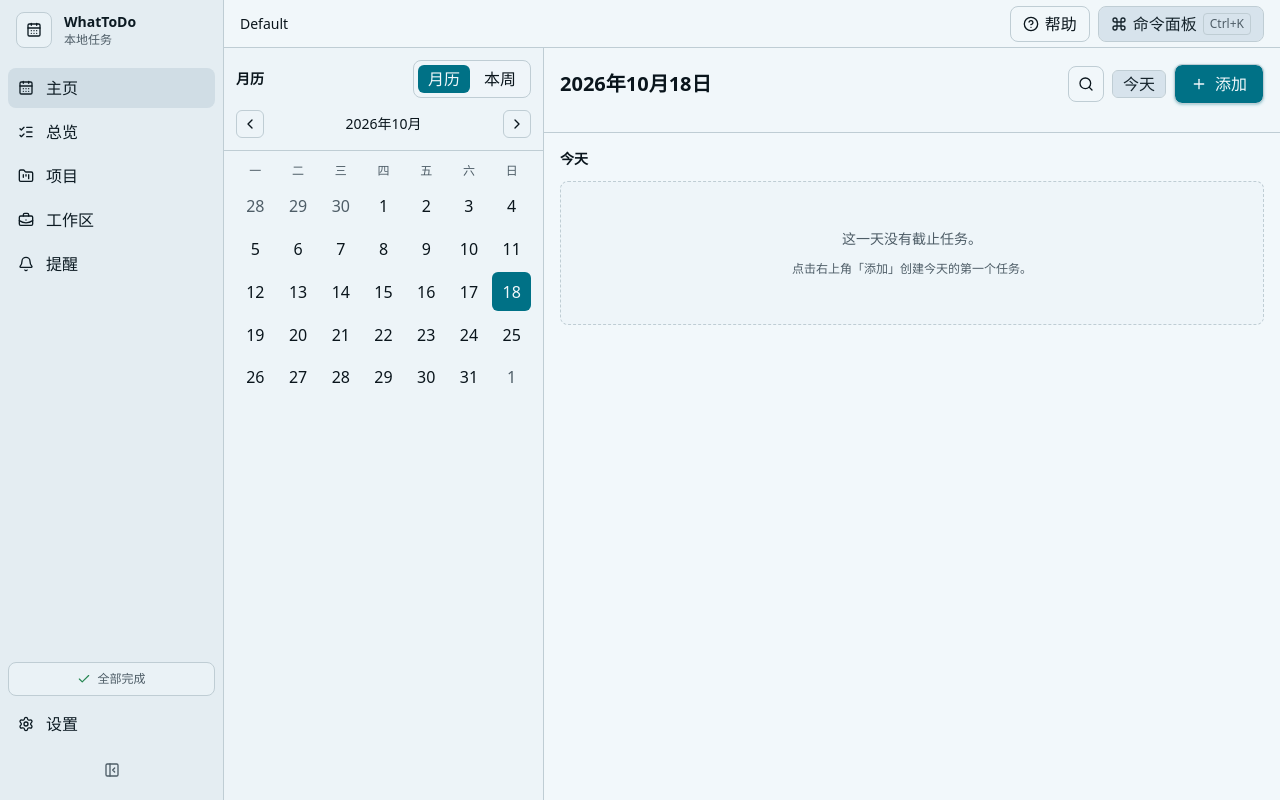
Test: App › renders the main shell and switches sidebar views
Expected: the text "WhatToDo" is shown, [64,12,136,32]
Expected: the button "今天" is shown, [1112,70,1166,98]
Click the button "项目" at x=112, y=176, box [8,156,215,196]
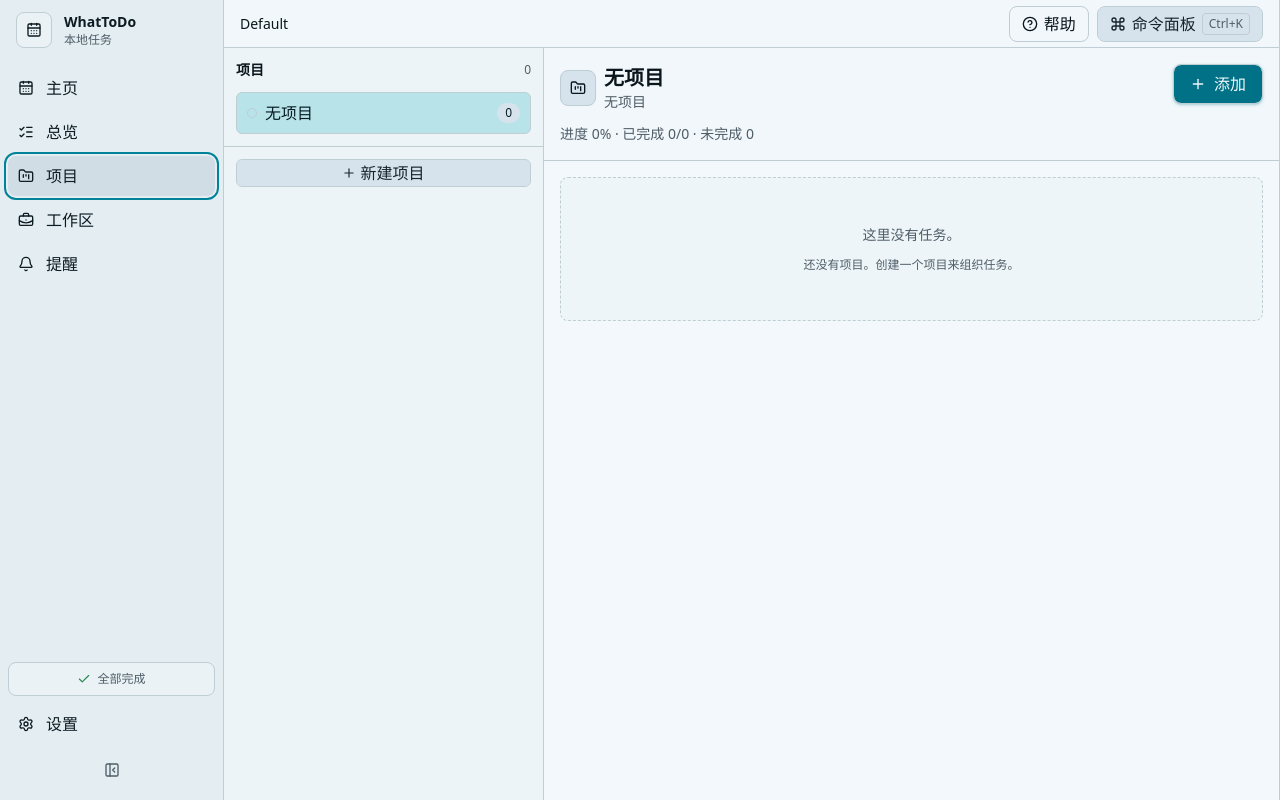
Result: the button "新建项目" is shown at [236,159,531,187]
Result: the 2nd text "无项目" is shown at [265,101,313,125]
Click the button "工作区" at x=112, y=220, box [8,200,215,240]
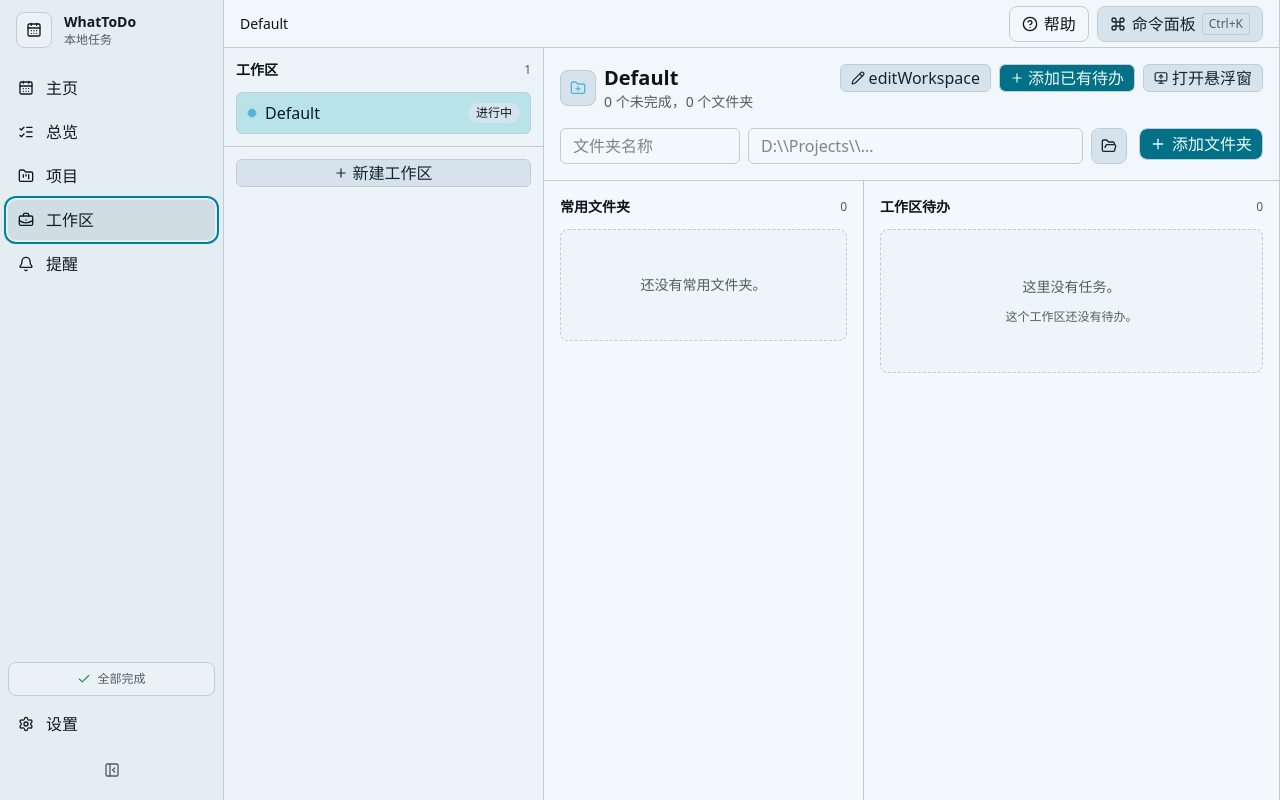
Result: the button "新建工作区" is shown at [236,159,531,187]
Result: the heading "常用文件夹" is shown at [560,197,630,217]
Click the button "设置" at x=112, y=724, box [8,704,215,744]
(page scrolled)
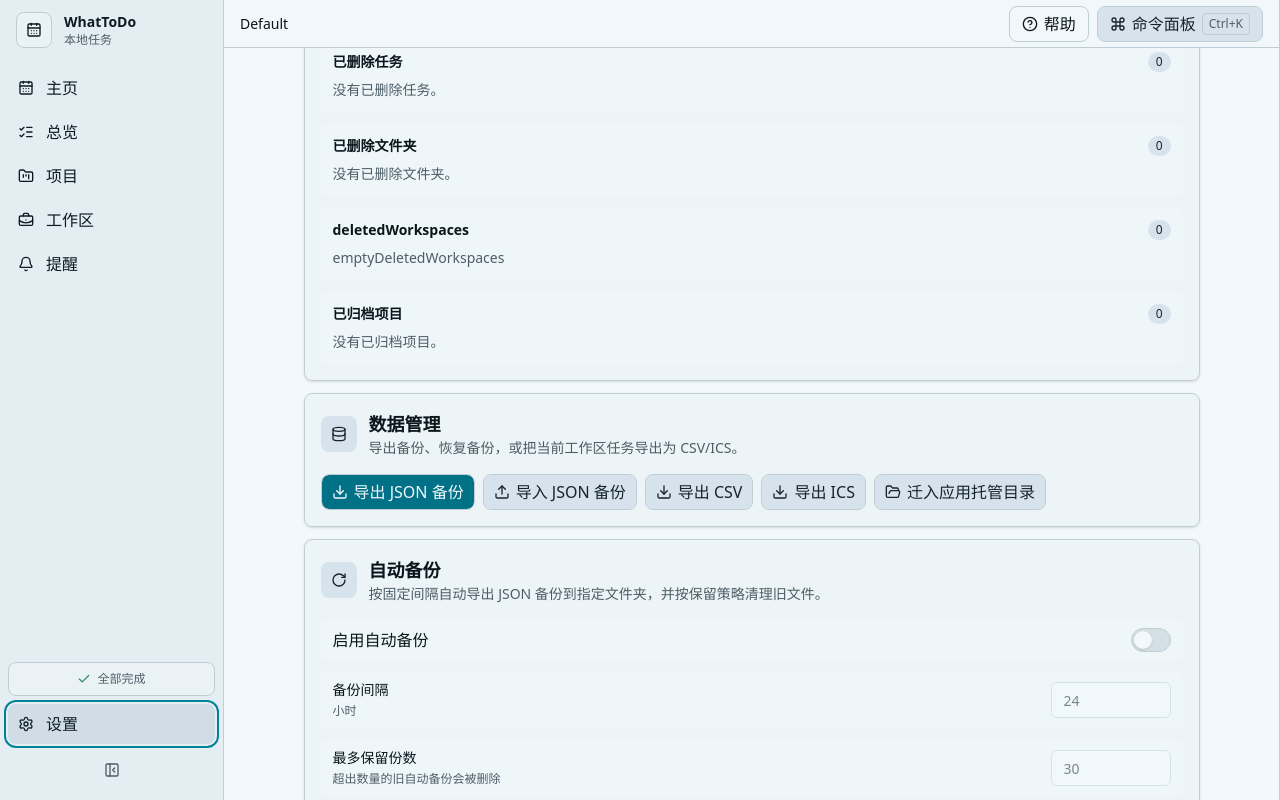
Result: the heading "数据管理" is shown at [368,412,440,436]
